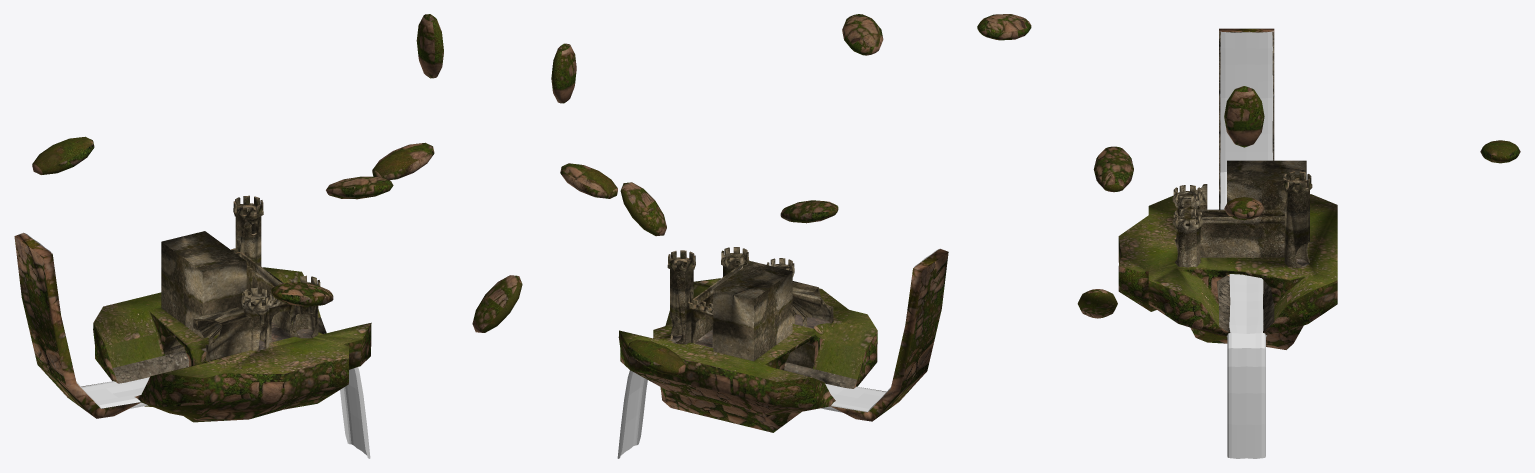
The model's file is Castle.glb.
The picture shows the model from 3 angles, left to right: view 1: azimuth 30°, elevation 25°; view 2: azimuth 150°, elevation 25°; view 3: azimuth 270°, elevation 25°; orthographic projection. The views are drawn at different scales.
Parts seen in each view (by area): view 1: CITS_Castle2, Plane; view 2: CITS_Castle2, Plane; view 3: CITS_Castle2, Plane.
Part boxes in pixels (<box>): CITS_Castle2: <box>14,14,522,422</box>; Plane: <box>23,233,370,458</box>; CITS_Castle2: <box>551,14,948,432</box>; Plane: <box>617,248,940,458</box>; CITS_Castle2: <box>977,14,1520,349</box>; Plane: <box>1219,31,1273,458</box>.
Size of the model in its own units: 198 by 194 by 235.
Materials: 6 (5 with a texture image).
